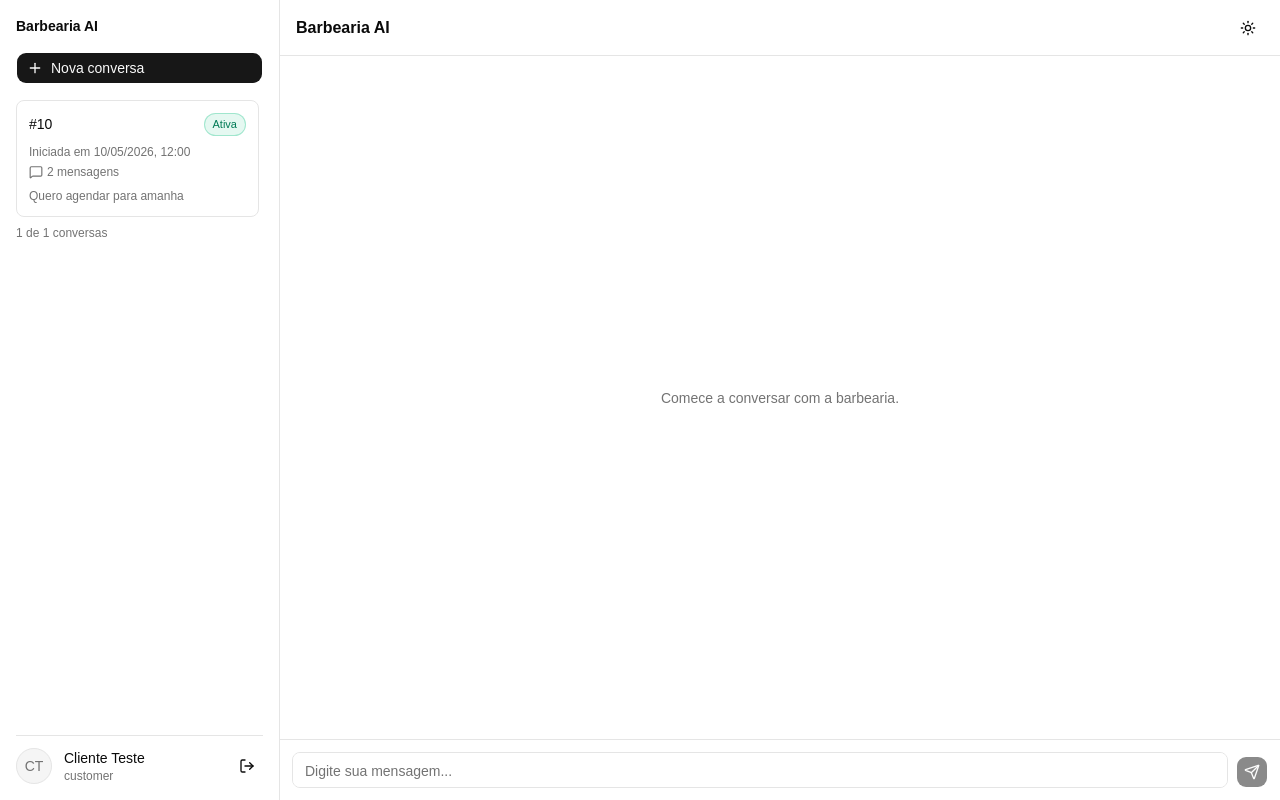
Test: Chat Flow Integration › navega da sidebar para a conversa e renderiza historico
Expected: the text "Comece a conversar com a barbearia." is shown, [661,390,899,406]
Click the button with aria-label "Abrir conversa 10": point(138, 158) [16,100,259,216]
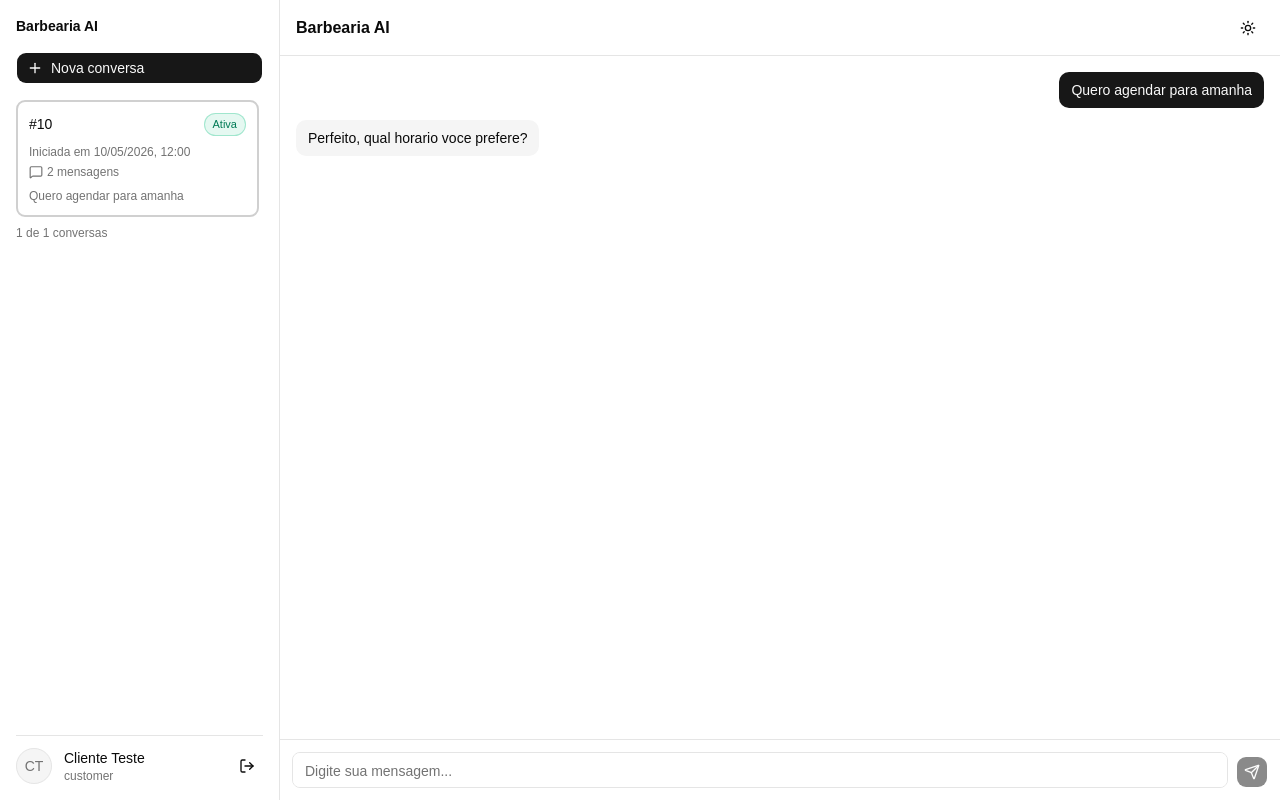
Expected: the text "Quero agendar para amanha" is shown 2 times, [29,188,184,202]; [1059,72,1264,108]
Expected: the text "Perfeito, qual horario voce prefere?" is shown, [296,120,540,156]
